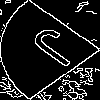J: (25, 25, 97, 77)
